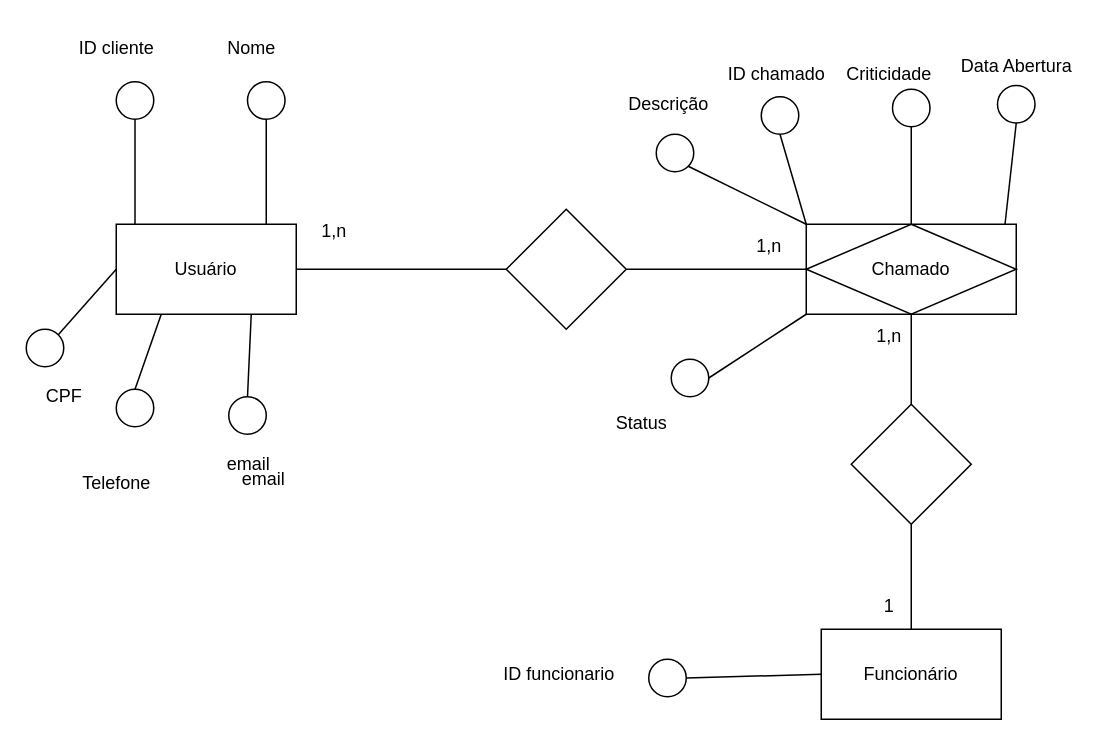
The diagram is 1118 pixels wide and 746 high, and some of its shapes have lost their labels. Each missing label, with the box of its shape:
Inicia: (505, 208, 626, 329)
Resolve: (850, 403, 971, 524)
